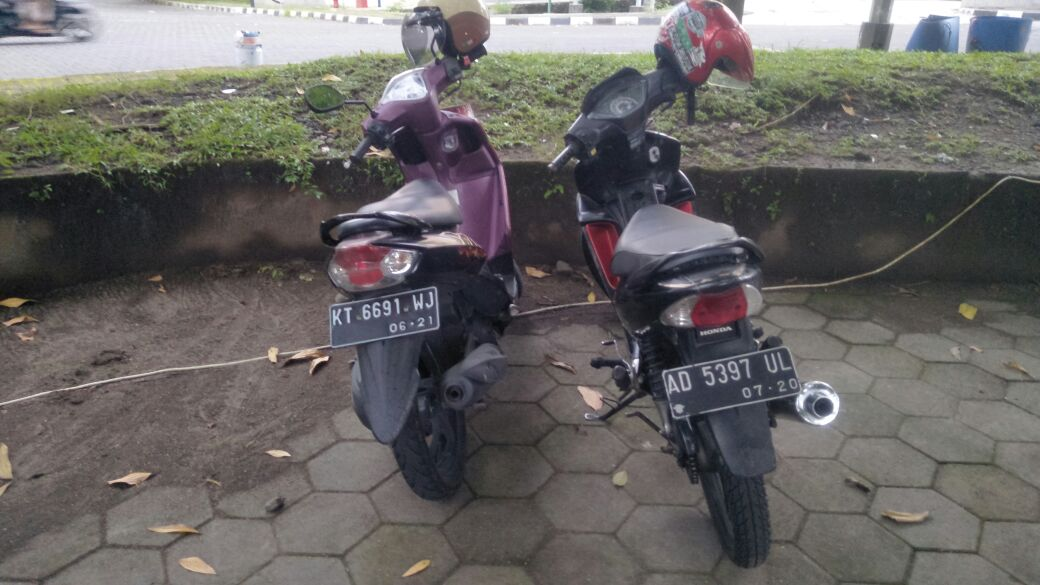plate: (662, 347, 801, 412), (329, 287, 439, 340)
